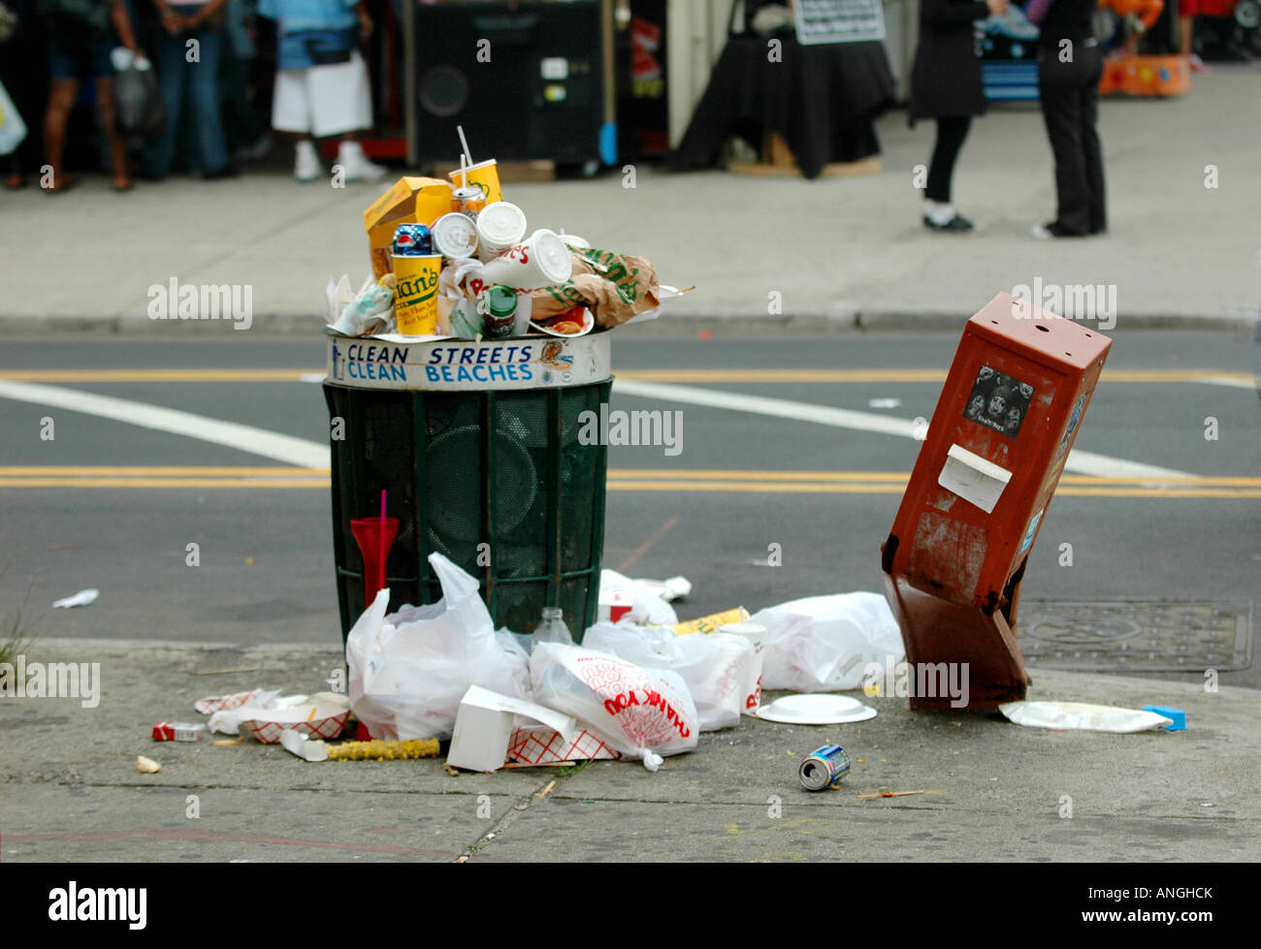TrashBin: (297, 142, 650, 734)
